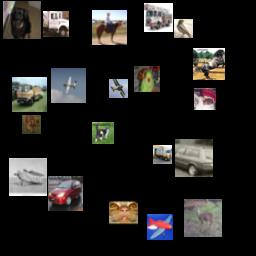airplane: (9, 158, 47, 196), (51, 68, 86, 103), (147, 214, 173, 240), (109, 79, 128, 98)
automobile: (175, 139, 213, 177), (48, 176, 83, 211)
bird: (134, 66, 160, 92), (174, 19, 193, 38)
cat: (109, 198, 138, 227), (92, 122, 114, 144), (194, 88, 216, 110)
deer: (184, 199, 222, 237), (22, 115, 41, 134)
dog: (3, 1, 41, 39)
truck: (12, 77, 47, 112), (144, 3, 173, 32), (43, 11, 69, 37), (153, 145, 172, 164)
